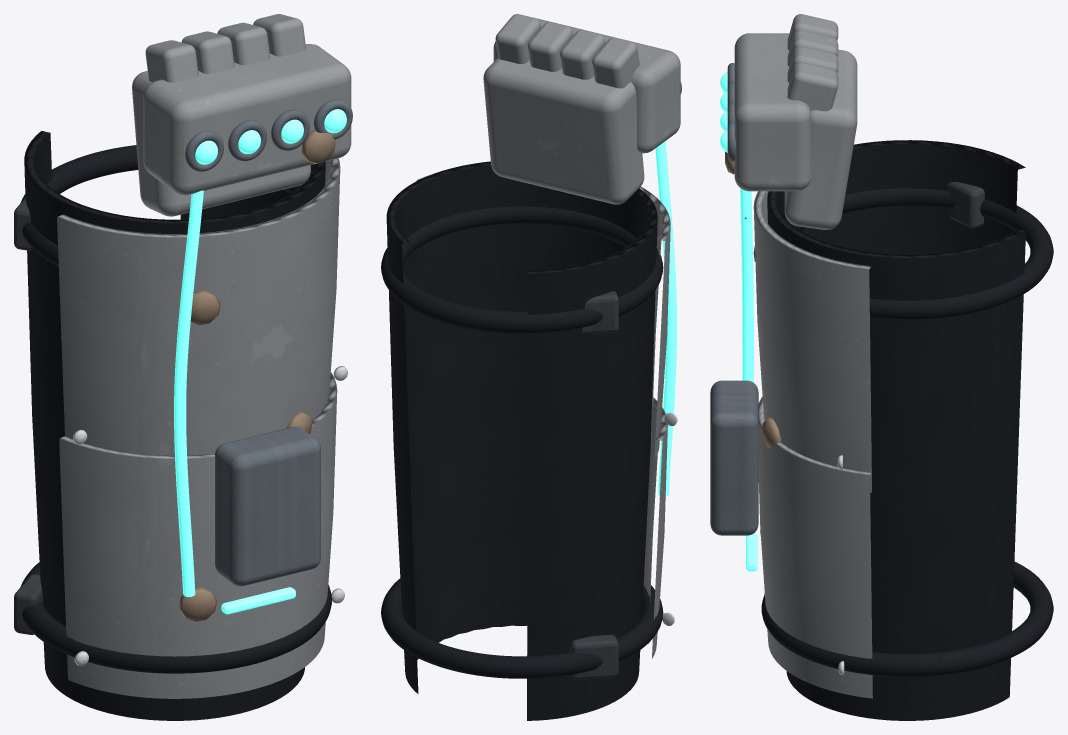
Rendered from energy-gauntlet.glb.
3 renders of one model, left to right at view 1: azimuth 30°, elevation 25°; view 2: azimuth 150°, elevation 25°; view 3: azimuth 270°, elevation 25°, orthographic. The views are drawn at different scales.
Visible parts, largest first — view 1: ceramic / ceramic composite panel, polymer / stippled polymer, alloy / machined anodized alloy, energy / emissive field channel, glaze bead, darksteel / oil-blackened fittings, edge / honed bright bevel; view 2: polymer / stippled polymer, ceramic / ceramic composite panel, energy / emissive field channel, darksteel / oil-blackened fittings; view 3: polymer / stippled polymer, ceramic / ceramic composite panel, alloy / machined anodized alloy, energy / emissive field channel, darksteel / oil-blackened fittings, glaze bead.
Boxes of the visible parts, box(x1,y1,x2,y2) form: ceramic / ceramic composite panel: box(57, 14, 351, 698); polymer / stippled polymer: box(20, 131, 331, 720); alloy / machined anodized alloy: box(185, 99, 352, 586); energy / emissive field channel: box(174, 109, 346, 614); glaze bead: box(178, 130, 335, 621); darksteel / oil-blackened fittings: box(14, 198, 42, 634); edge / honed bright bevel: box(73, 366, 347, 665); polymer / stippled polymer: box(381, 161, 663, 720); ceramic / ceramic composite panel: box(416, 14, 680, 658); energy / emissive field channel: box(655, 141, 676, 496); darksteel / oil-blackened fittings: box(570, 291, 618, 679); polymer / stippled polymer: box(761, 140, 1053, 720); ceramic / ceramic composite panel: box(734, 14, 872, 698); alloy / machined anodized alloy: box(710, 63, 758, 535); energy / emissive field channel: box(720, 72, 757, 571); darksteel / oil-blackened fittings: box(947, 182, 984, 228); glaze bead: box(725, 151, 780, 536).
Bounding box in the file's own units: 0.155 × 0.3597 × 0.1784.
8 materials, 5 textured.
